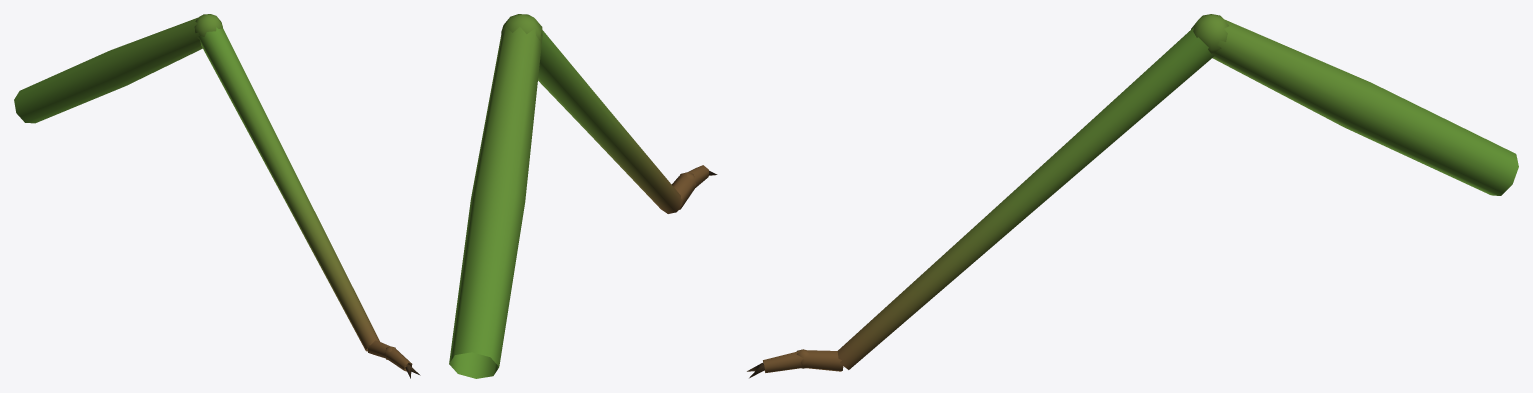
Rendered from Kirigirisu_Leg3.fbx.
3 views of the same model, side by side, from view 1: azimuth 30°, elevation 25°; view 2: azimuth 150°, elevation 25°; view 3: azimuth 270°, elevation 25° (orthographic). The views are drawn at different scales.
Visible parts, largest first — view 1: Kirigirisu_Leg3; view 2: Kirigirisu_Leg3; view 3: Kirigirisu_Leg3.
Boxes of the visible parts, x1=… form: Kirigirisu_Leg3: x1=14, y1=14, x2=420, y2=378; Kirigirisu_Leg3: x1=449, y1=14, x2=717, y2=378; Kirigirisu_Leg3: x1=747, y1=14, x2=1518, y2=378.
Size of the model in its own units: 0.2664 by 0.4828 by 1.01.
